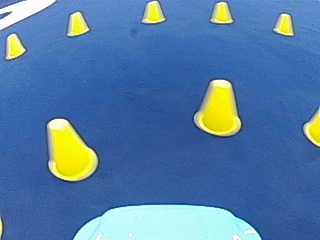cone: (44, 118, 97, 180), (195, 78, 241, 136), (303, 108, 319, 145), (66, 11, 89, 36), (141, 1, 165, 24), (209, 2, 233, 24), (272, 12, 294, 36), (5, 32, 25, 58)
